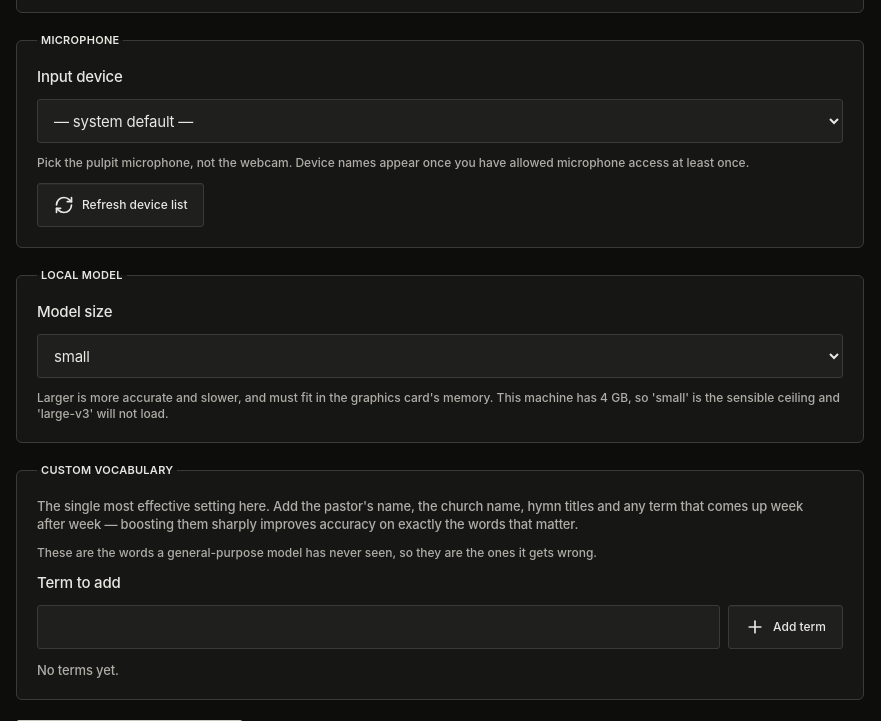
Test: AsrSettings › removes a term
(page scrolled)
Type "은혜한빛교회" into the field labelled "Term to add" at (379, 627), box x1=37 y1=605 x2=720 y2=649
Then press Enter
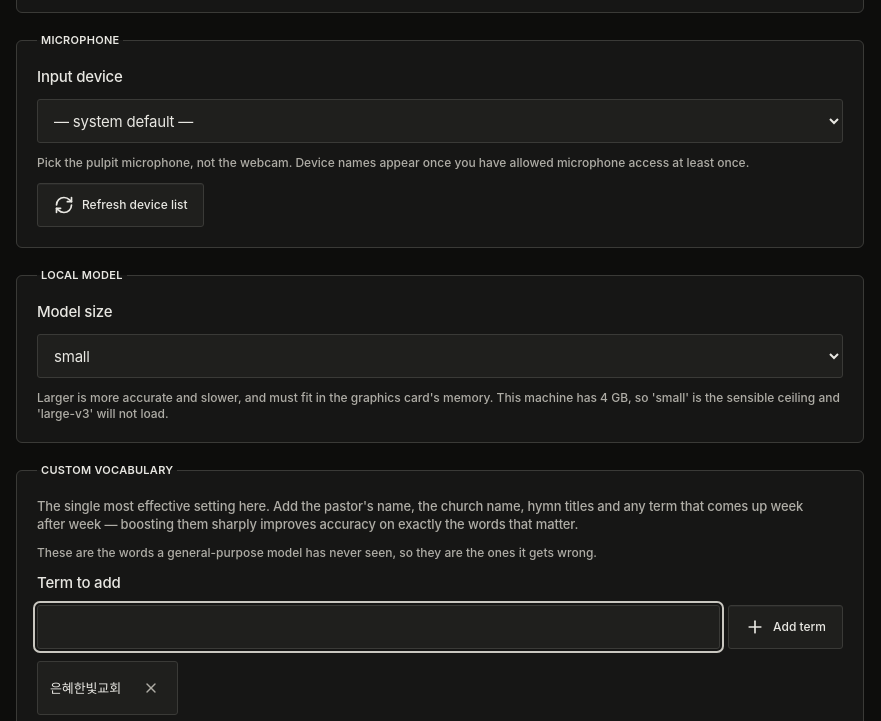
Type "홍길동 목사" into the field labelled "Term to add" at (379, 627), box x1=37 y1=605 x2=720 y2=649
Then press Enter
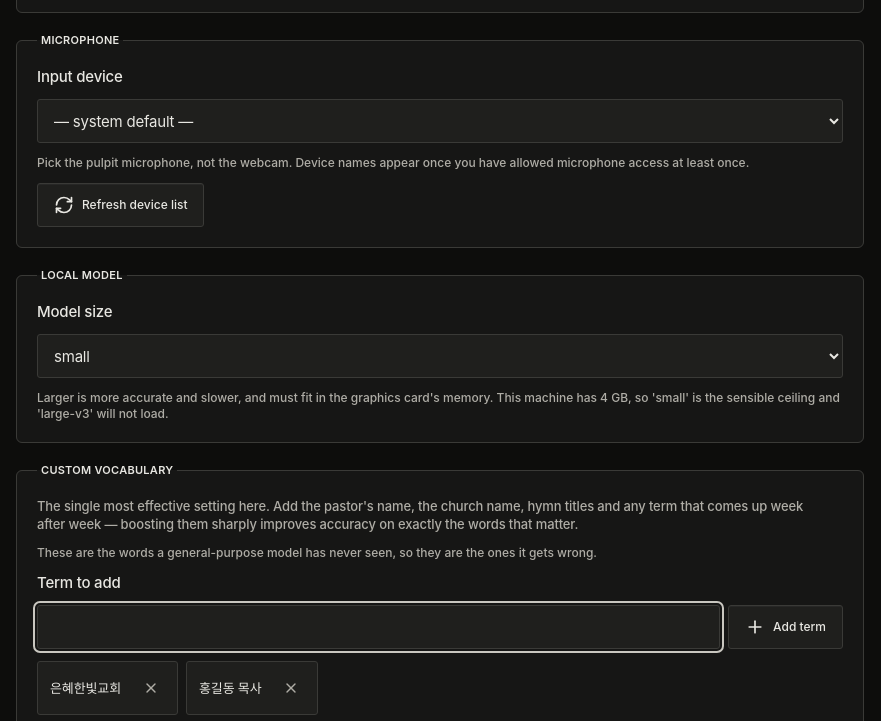
Click the button named "Remove 은혜한빛교회" at (151, 688), box x1=129 y1=666 x2=173 y2=710
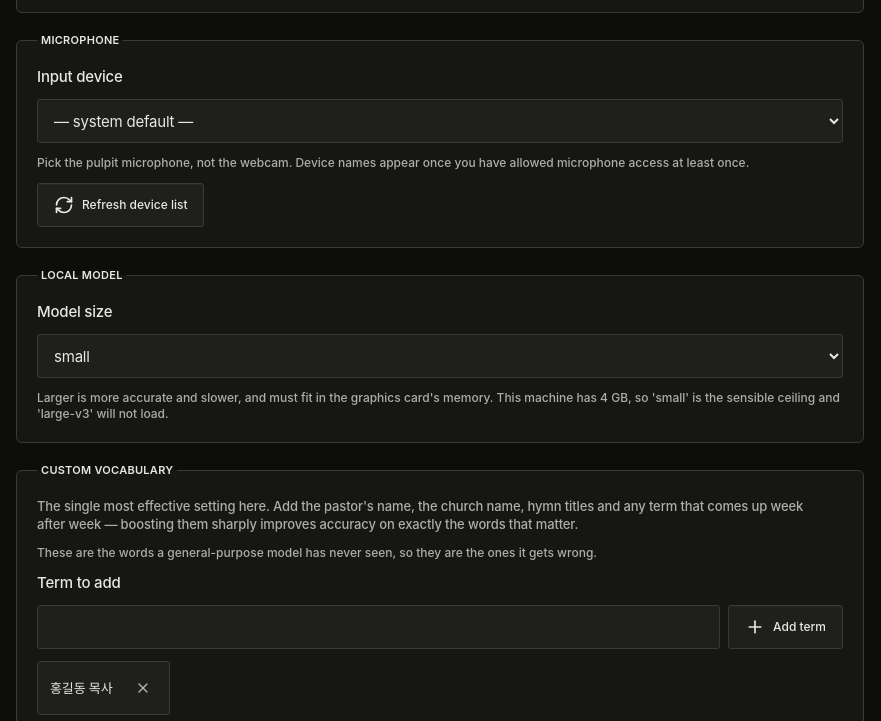
Expected: the text "홍길동 목사" is shown, x1=50 y1=679 x2=112 y2=697
Expected: the text "은혜한빛교회" is gone
